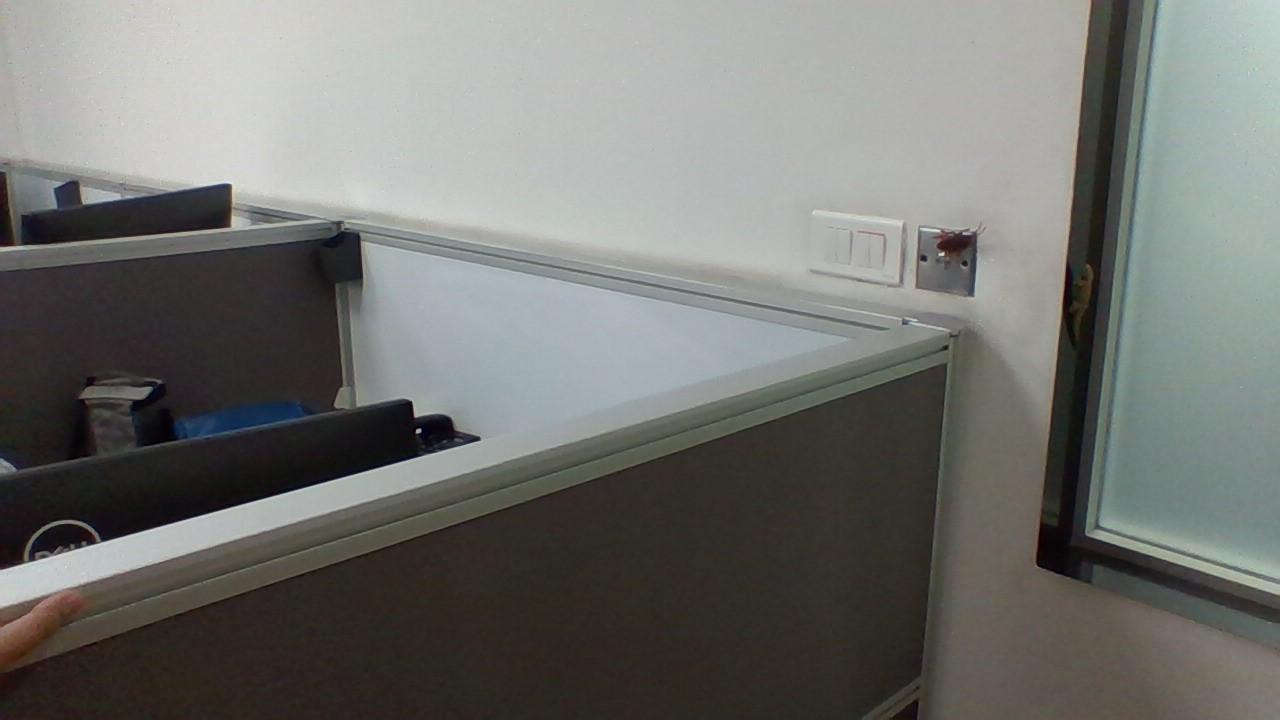cockroach: (923, 216, 988, 279)
lizard: (1069, 245, 1106, 367)
